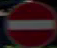No entry: (1, 5, 55, 41)
